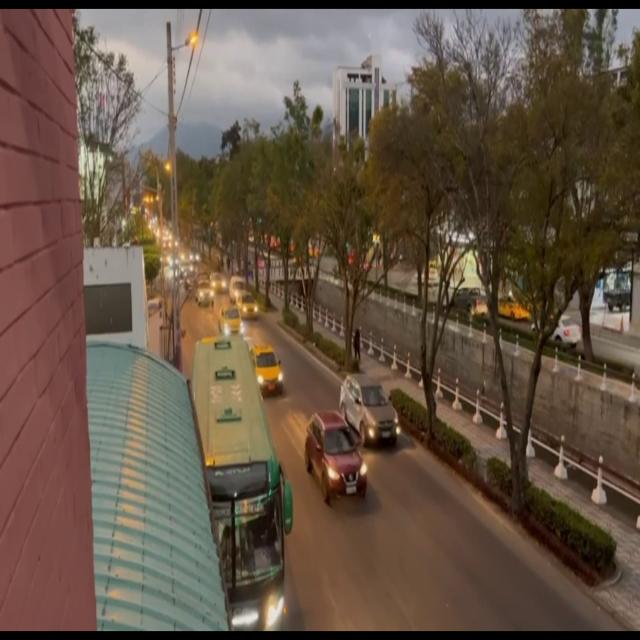SED: (252, 347, 283, 394), (220, 308, 242, 337), (238, 294, 259, 320)
SUV: (310, 418, 366, 502), (344, 379, 397, 444)
